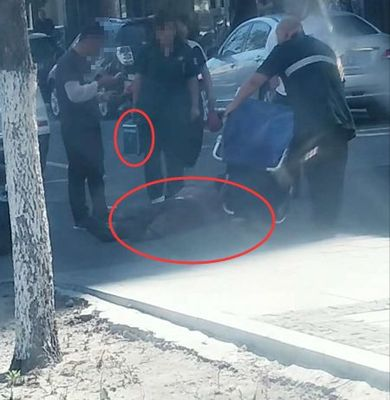fall: (118, 171, 241, 245)
